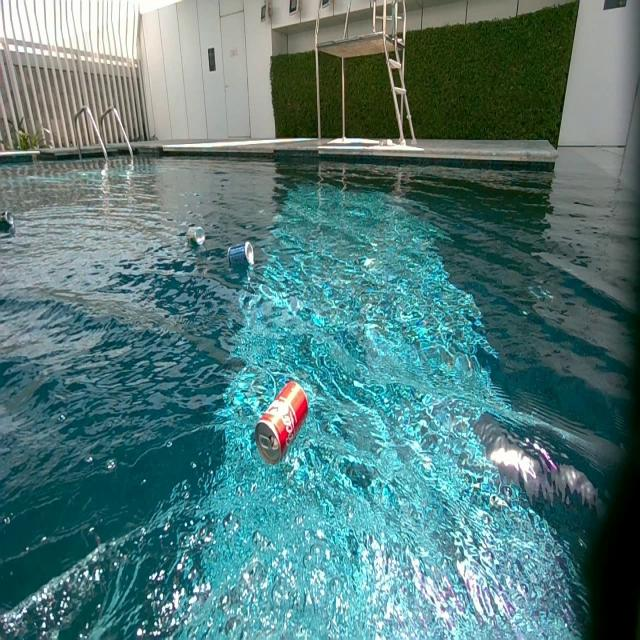Cans: (255, 382, 309, 466), (228, 240, 254, 268), (186, 230, 204, 248), (2, 211, 14, 229)
